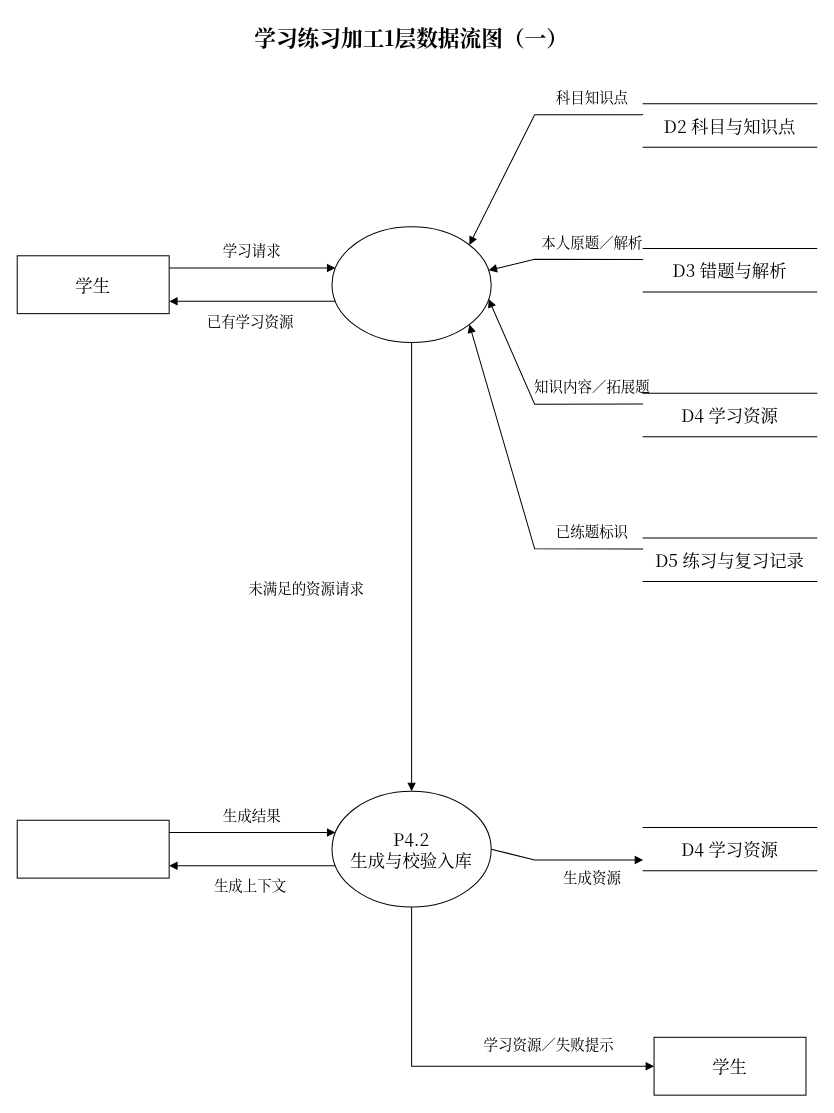
This 834x1113 diagram has some shape labels left out. The centre of each missing label's shape, as x and y in pixels:
"AI模型" belongs at pixel 92 848.
"P4.1 查询可用资源" belongs at pixel 411 284.
